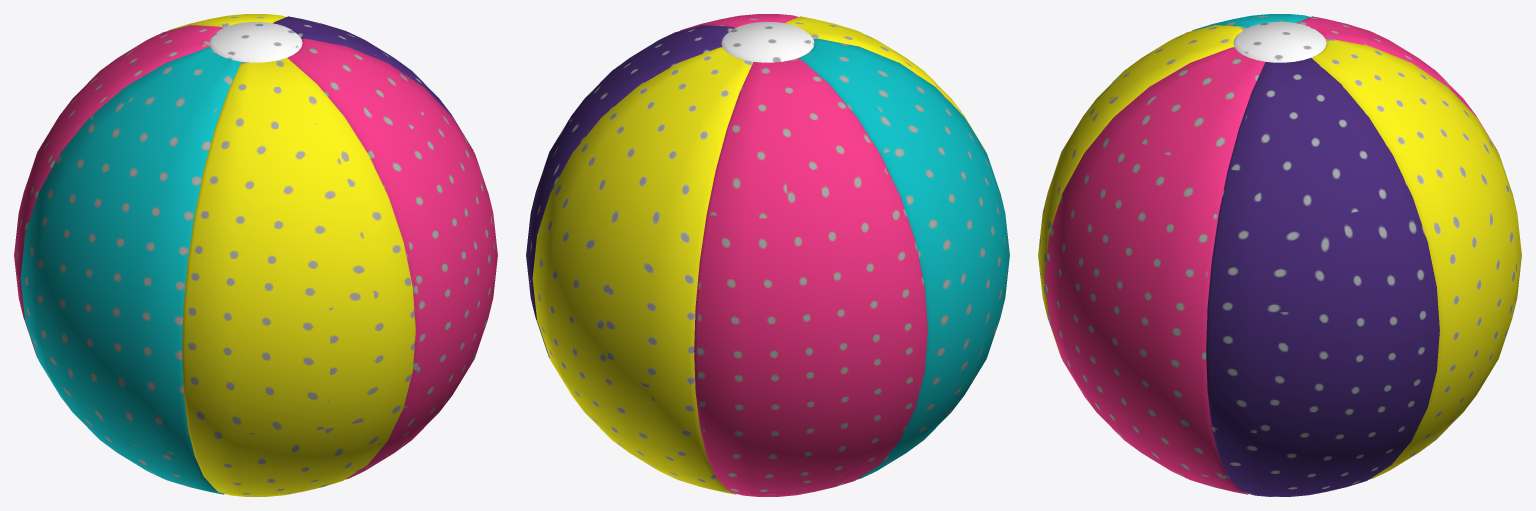
The model's file is Beach Ball.fbx.
3 views of the same model, side by side, from view 1: azimuth 30°, elevation 25°; view 2: azimuth 150°, elevation 25°; view 3: azimuth 270°, elevation 25° (orthographic).
Visible parts, largest first — view 1: beach ball; view 2: beach ball; view 3: beach ball.
Boxes of the visible parts, bbox=[...] form: beach ball: bbox=[14, 14, 497, 496]; beach ball: bbox=[526, 14, 1009, 496]; beach ball: bbox=[1038, 14, 1521, 496].
Size of the model in its own units: 20.5 by 20.61 by 20.61.
Materials: 1 (1 with a texture image).
